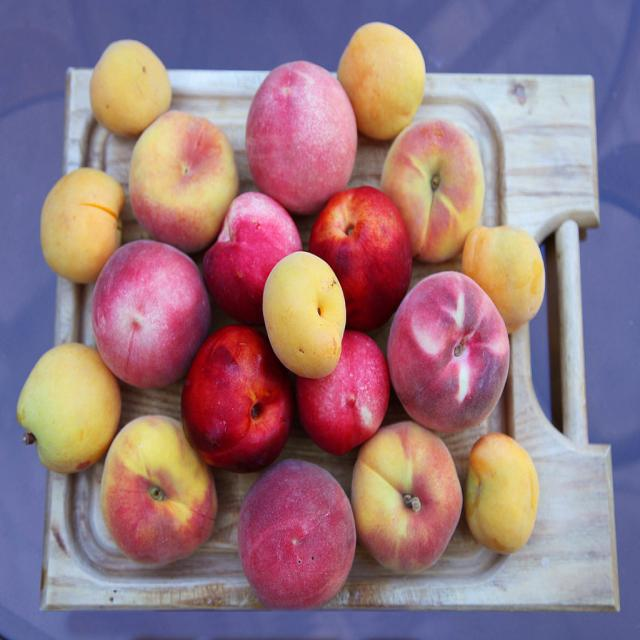Peach: (16, 21, 544, 614), (82, 241, 214, 392)
